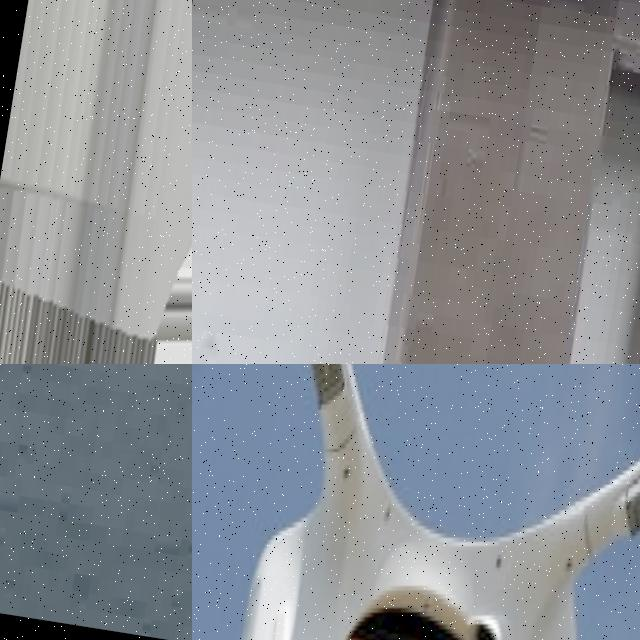drone: (192, 364, 640, 640), (0, 0, 192, 364)
